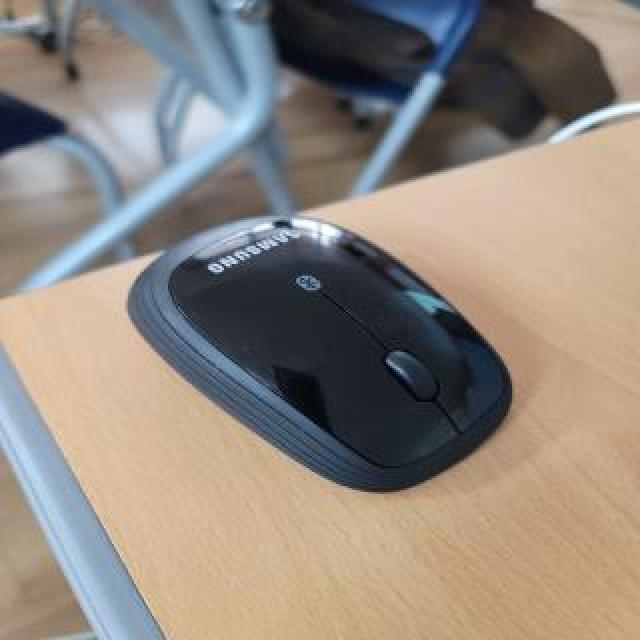mouse: (125, 178, 554, 498)
